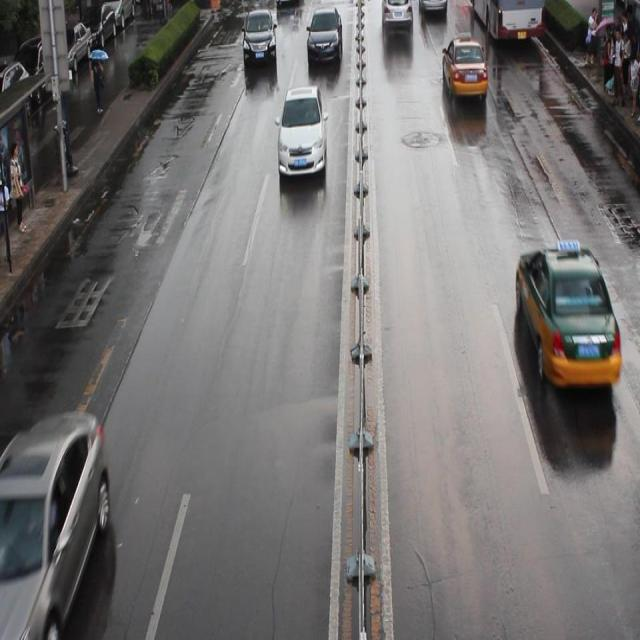car: (0, 406, 110, 640), (515, 242, 619, 387), (276, 86, 327, 178), (442, 38, 487, 94), (305, 9, 342, 64), (241, 9, 276, 66), (379, 1, 412, 31), (418, 2, 447, 15)
van: (469, 1, 544, 39)
